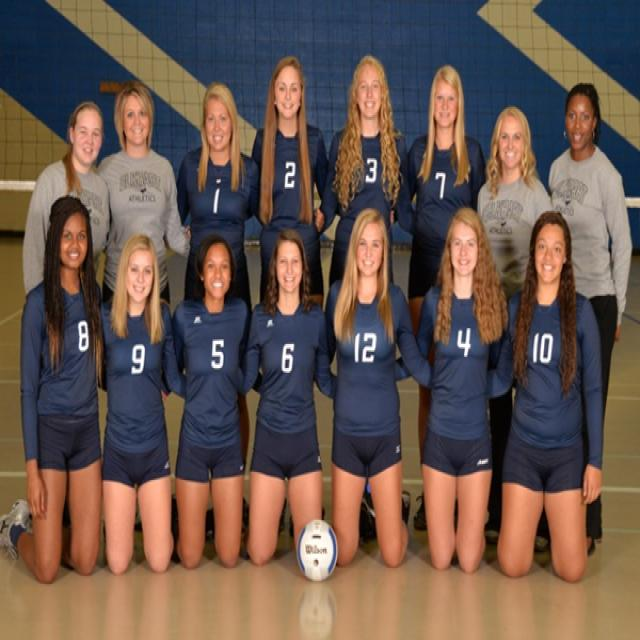body: (390, 203, 509, 576), (0, 192, 109, 589), (544, 79, 634, 558), (494, 204, 605, 586), (321, 205, 436, 571), (172, 77, 263, 478), (159, 230, 264, 572), (242, 224, 340, 570), (98, 230, 188, 576), (393, 63, 488, 334), (250, 53, 340, 312), (93, 78, 192, 309), (324, 54, 416, 293), (476, 103, 554, 340), (21, 98, 111, 299)
